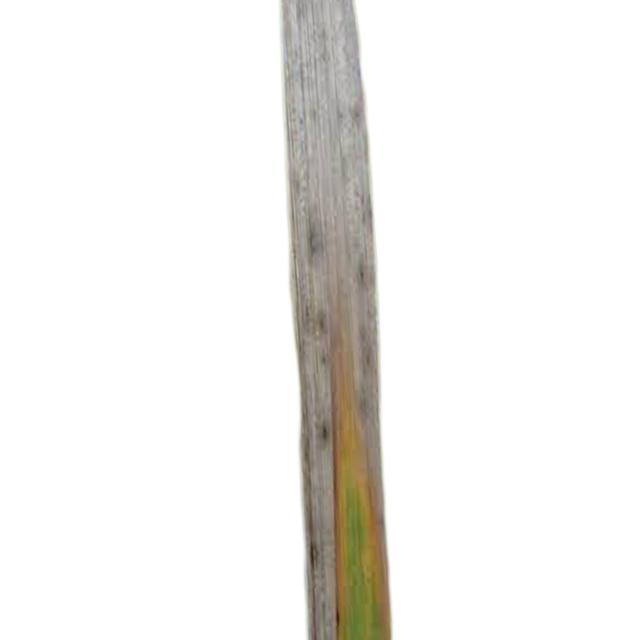Leaf scald: (206, 0, 496, 640)
